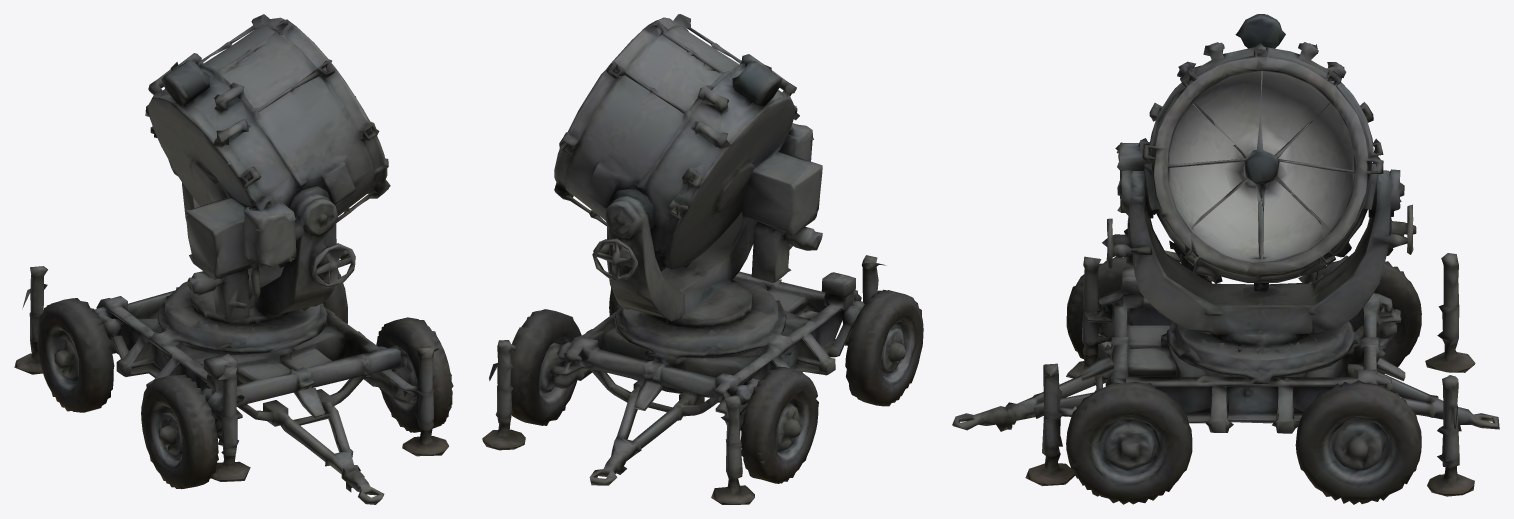
File: prop_searchlight.glb
The picture shows the model from 3 angles, left to right: view 1: azimuth 30°, elevation 25°; view 2: azimuth 150°, elevation 25°; view 3: azimuth 270°, elevation 25°; orthographic projection. The views are drawn at different scales.
Visible parts, largest first — view 1: tripo_node_79559146-cef0-4ab0-a0b2-cb560826af72; view 2: tripo_node_79559146-cef0-4ab0-a0b2-cb560826af72; view 3: tripo_node_79559146-cef0-4ab0-a0b2-cb560826af72.
Boxes of the visible parts, box(x1,y1,x2,y2) form: tripo_node_79559146-cef0-4ab0-a0b2-cb560826af72: box(14, 14, 453, 504); tripo_node_79559146-cef0-4ab0-a0b2-cb560826af72: box(482, 14, 923, 504); tripo_node_79559146-cef0-4ab0-a0b2-cb560826af72: box(952, 14, 1499, 504).
Size of the model in its own units: 0.6372 by 0.839 by 1.
1 material, 1 textured.
